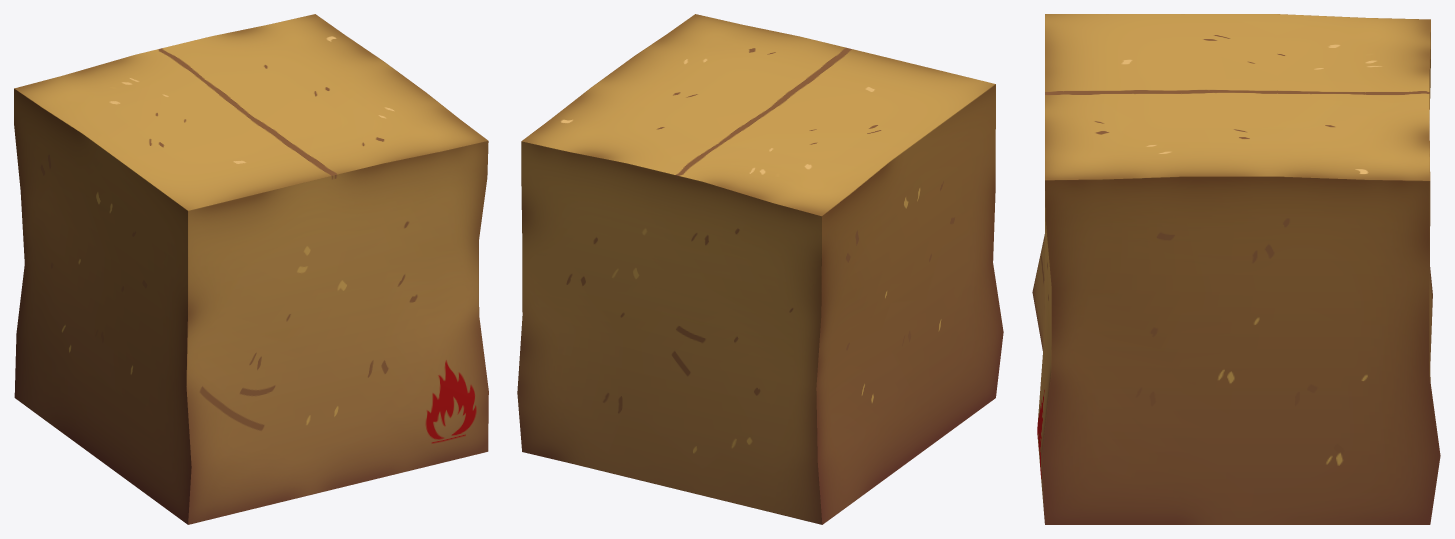
The model's file is Flammable_medium_box (2).fbx.
The picture shows the model from 3 angles, left to right: view 1: azimuth 30°, elevation 25°; view 2: azimuth 150°, elevation 25°; view 3: azimuth 270°, elevation 25°; orthographic projection. The views are drawn at different scales.
Parts seen in each view (by area): view 1: pCube1; view 2: pCube1; view 3: pCube1.
Boxes of the visible parts, x1=… form: pCube1: x1=14, y1=14, x2=488, y2=524; pCube1: x1=517, y1=14, x2=1003, y2=524; pCube1: x1=1032, y1=14, x2=1440, y2=524.
Size of the model in its own units: 12.53 by 12.4 by 13.17.
1 material, 1 textured.
